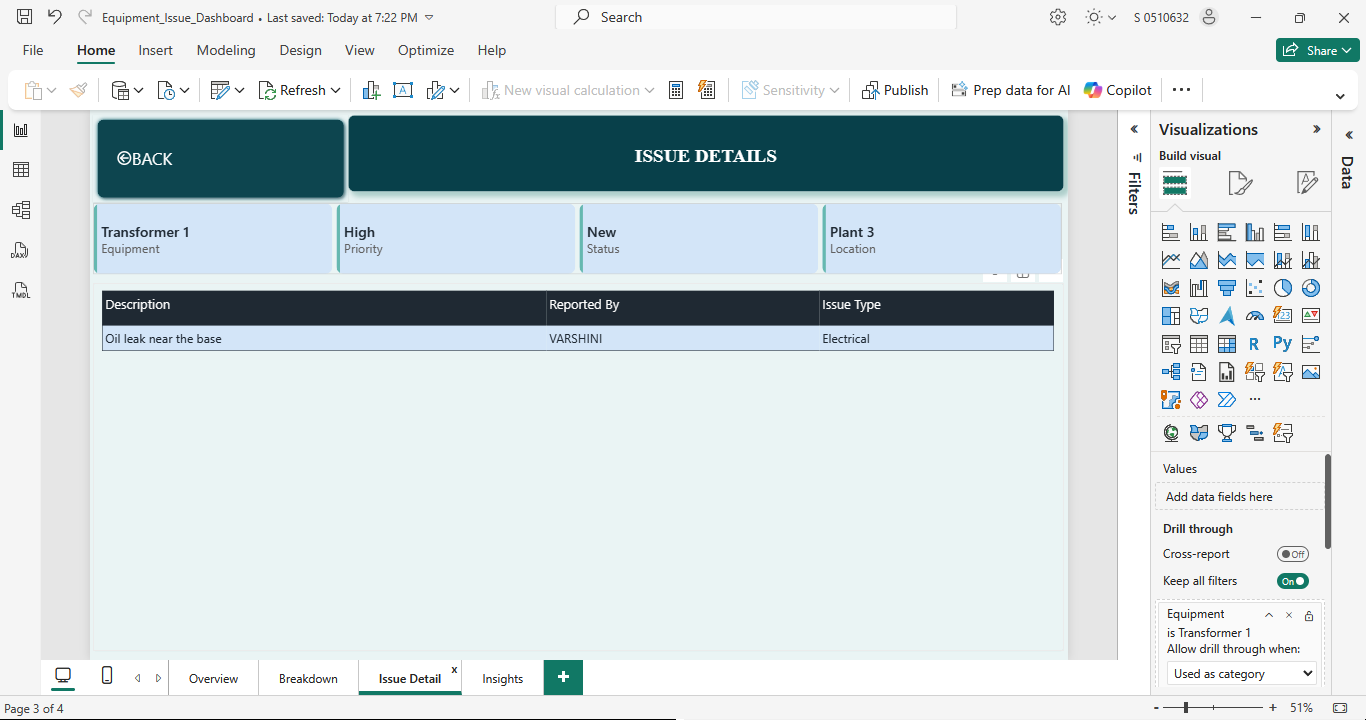

The page's visual inventory and layout, read from the dashboard file:
{"tool":"powerbi","page":{"name":"03_run_history","canvas":[1920,1080],"ordinal":2},"visuals":[{"type":"tableEx","title":"Issue Type","fields":{"Values":["Issue.Description","Issue.Reported By","Issue.Issue Type"]},"box":[6.2,340.6,1905.5,722.6],"z":2000},{"type":"textbox","box":[505.8,10.3,1405.9,150.7],"z":3000},{"type":"actionButton","box":[5,10.1,501.4,171.3],"z":4000},{"type":"cardVisual","title":"Issue Type","fields":{"Data":["Min(Issue.Equipment)","Min(Issue.Priority)","Min(Issue.Status)","Min(Issue.Location)"]},"box":[6.2,181.7,1905.5,140.4],"z":5000}]}

Visuals, with their boxes on the page's 1920x1080 design canvas (x1, y1, x2, y2). These are canvas units, not pixel positions in the 1366x720 screenshot, which may show the page scaled, cropped or inside an application window:
"Issue Type" tableEx: crop(6, 341, 1912, 1063)
textbox: crop(506, 10, 1912, 161)
actionButton: crop(5, 10, 506, 181)
"Issue Type" cardVisual: crop(6, 182, 1912, 322)
